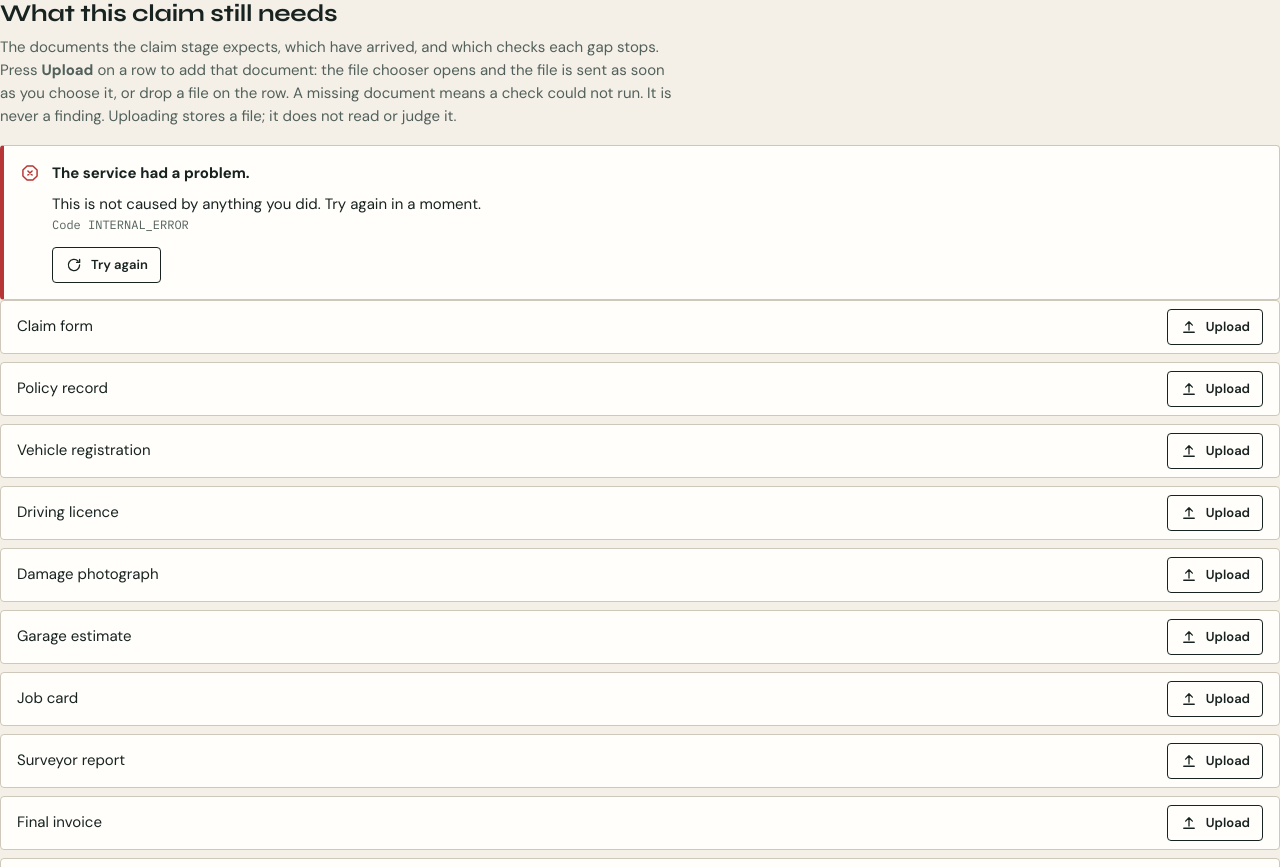
checklist › keeps going when the checklist fails, with a retry
Expected: the text "The service had a problem." is shown, 52,163 -> 250,183
Click the button "Try again" at point(106, 265), box 52,247 -> 161,283
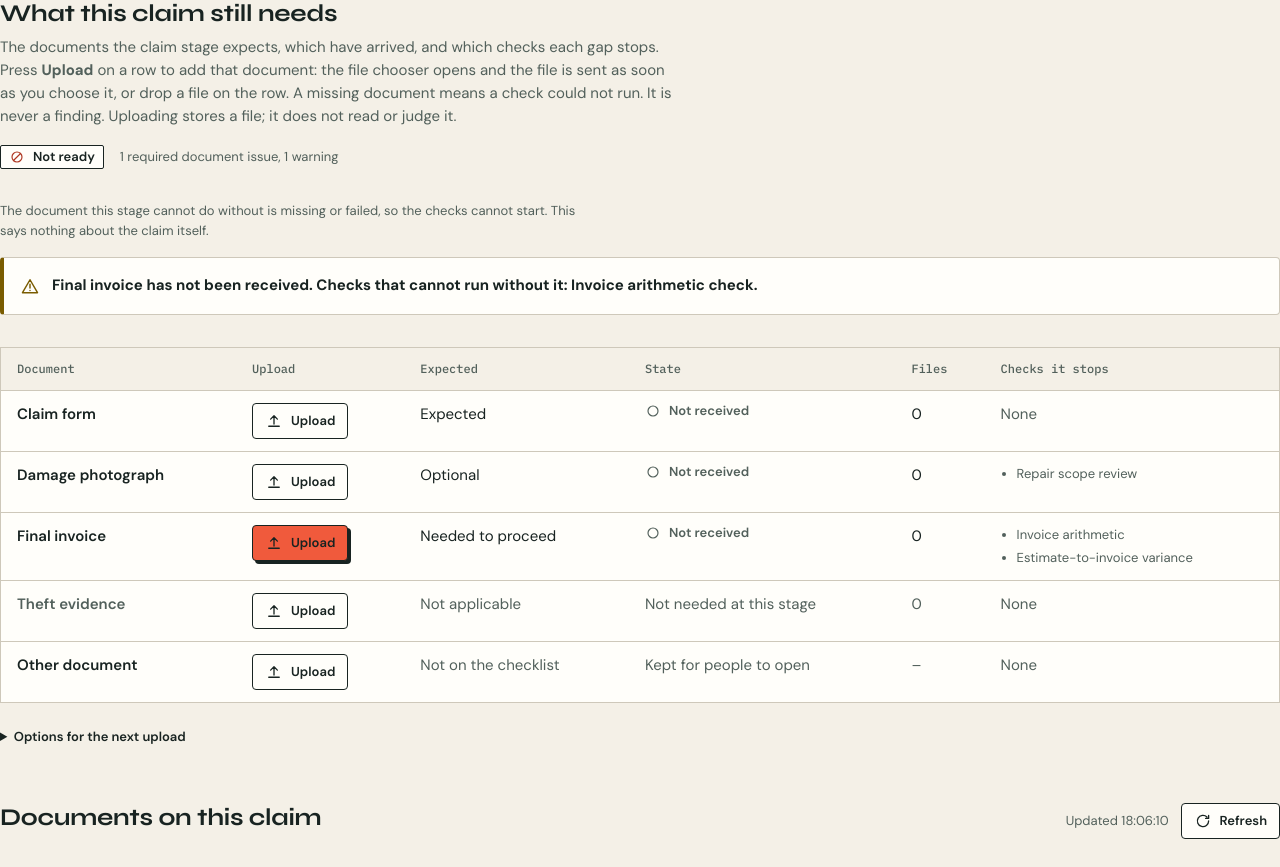
Expected: the table named "Documents this claim stage expects" is shown, 0,346 -> 1279,703
